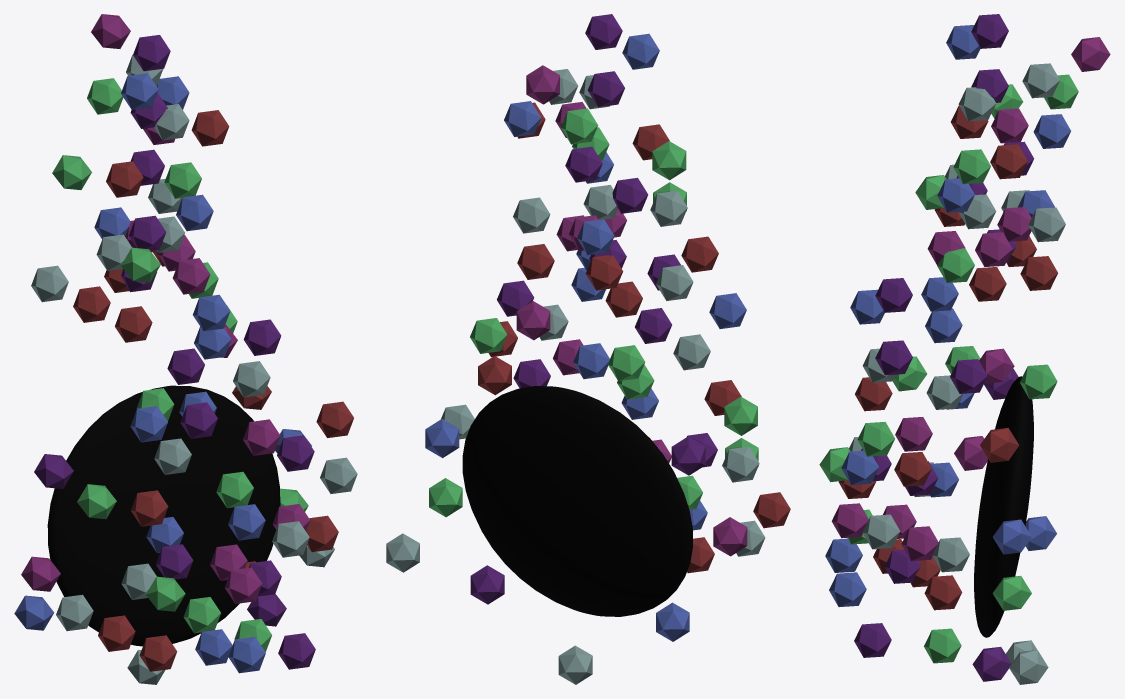
The model's file is SuperNovaEnemy.fbx.
3 views of the same model, side by side, from view 1: azimuth 30°, elevation 25°; view 2: azimuth 150°, elevation 25°; view 3: azimuth 270°, elevation 25° (orthographic).
Visible parts, largest first — view 1: Super_Nova81; view 2: Super_Nova81; view 3: Super_Nova81.
Part boxes in pixels (x1,y1,x2,y2): Super_Nova81: (14, 14, 357, 684); Super_Nova81: (386, 14, 790, 684); Super_Nova81: (819, 14, 1110, 684).
Size of the model in its own units: 36.95 by 69.93 by 28.37.
